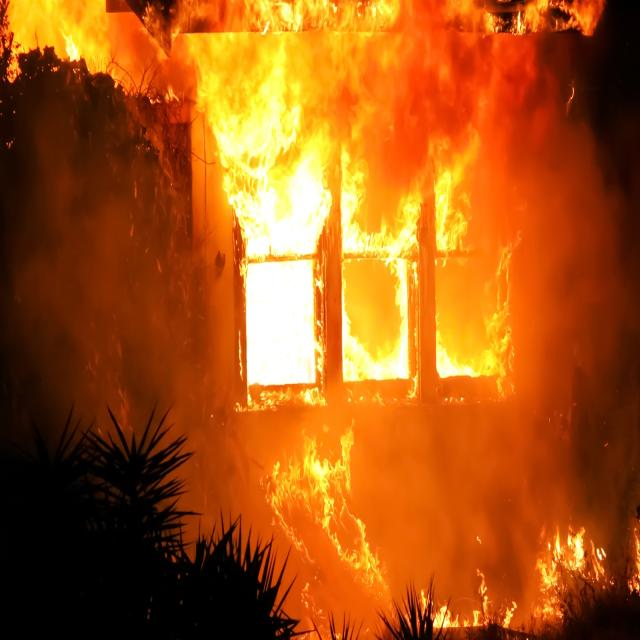fire: (206, 67, 322, 421), (341, 76, 413, 398), (236, 0, 601, 53), (263, 451, 388, 594), (420, 548, 623, 626), (427, 163, 482, 394), (3, 0, 136, 74), (492, 220, 544, 396), (631, 513, 640, 591)
